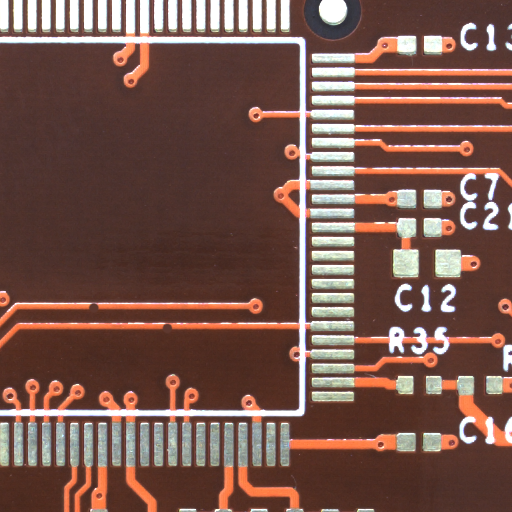Mouse_bite: (166, 326, 183, 338), (92, 307, 108, 318)
